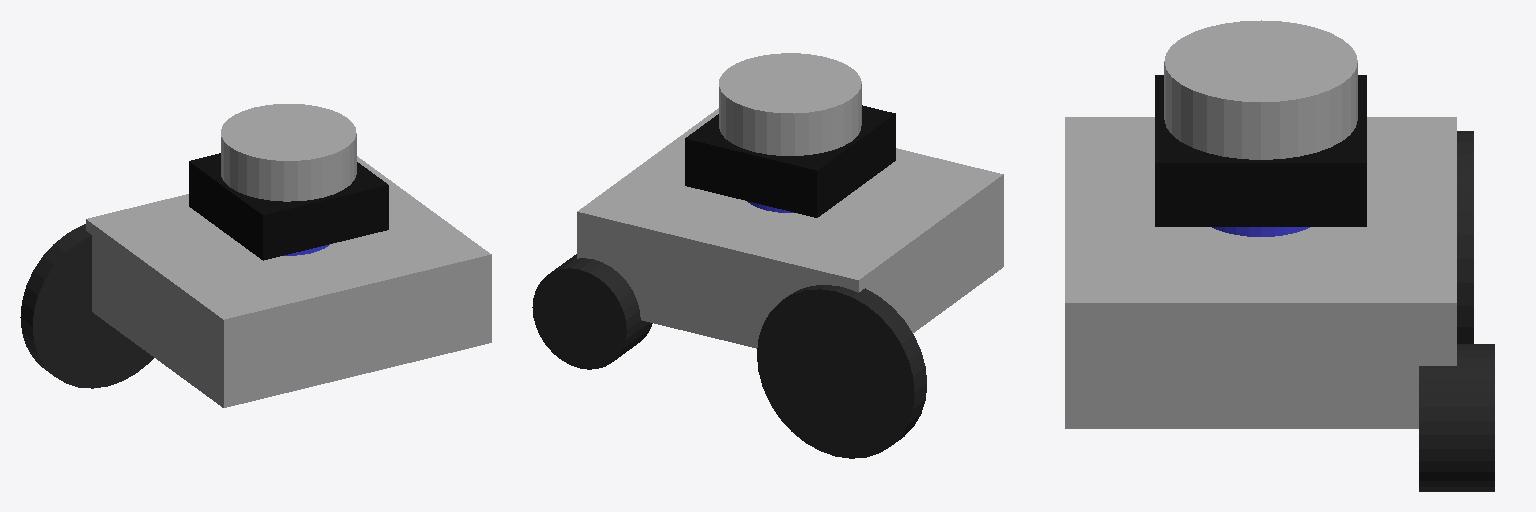
The robot description file, URDF, robot "evolved_robot":
<?xml version="1.0"?>
<robot name="evolved_robot">
  <material name="metal">
    <color rgba="0.7 0.7 0.7 1.0"/>
  </material>
  <material name="plastic">
    <color rgba="0.3 0.3 0.9 1.0"/>
  </material>
  <material name="rubber">
    <color rgba="0.1 0.1 0.1 1.0"/>
  </material>
  <material name="red">
    <color rgba="1.0 0.0 0.0 1.0"/>
  </material>
  <material name="wheel_material">
    <color rgba="0.2 0.2 0.2 1.0"/>
  </material>
  <link name="base_link">
    <visual>
      <geometry><box size="0.34027136548425513 0.3031946513906124 0.10747812692987997"/></geometry>
      <material name="metal"/>
    </visual>
    <collision>
      <geometry><box size="0.34027136548425513 0.3031946513906124 0.10747812692987997"/></geometry>
    </collision>
    <inertial>
      <mass value="5.0"/>
      <inertia ixx="0.08623212033352533" ixy="0" ixz="0" 
               iyy="0.1061134582807291" iyz="0" 
               izz="0.1730929990003288"/>
    </inertial>
  </link>
  <link name="link1">
    <visual>
      <geometry><cylinder radius="0.050041594297084685" length="0.0551596696567533"/></geometry>
      <material name="plastic"/>
    </visual>
    <collision>
      <geometry><cylinder radius="0.050041594297084685" length="0.0551596696567533"/></geometry>
    </collision>
    <inertial>
      <mass value="0.5"/>
      <inertia ixx="0.0008795893863353505" ixy="0" ixz="0" 
               iyy="0.0008795893863353505" iyz="0" 
               izz="0.0012520805798970091"/>
    </inertial>
  </link>
  <joint name="joint1" type="fixed">
    <parent link="base_link"/>
    <child link="link1"/>
    <origin xyz="0 0 0.053739063464939986" rpy="0 0 0"/>
    <axis xyz="-0.09344979423289478 -0.9427831852506745 0.32004218716666416"/>
    <dynamics damping="0.7561519102187328" friction="0.1"/>
  </joint>
  <link name="link2">
    <visual>
      <geometry><box size="0.15984581774312595 0.1637658213362068 0.05482141343289953"/></geometry>
      <material name="rubber"/>
    </visual>
    <collision>
      <geometry><box size="0.15984581774312595 0.1637658213362068 0.05482141343289953"/></geometry>
    </collision>
    <inertial>
      <mass value="0.5"/>
      <inertia ixx="0.002485385967391942" ixy="0" ixz="0" 
               iyy="0.002379672735062461" iyz="0" 
               izz="0.004364160807324254"/>
    </inertial>
  </link>
  <joint name="joint2" type="revolute">
    <parent link="base_link"/>
    <child link="link2"/>
    <origin xyz="0 0 0.10373906346494" rpy="0 0 0"/>
    <axis xyz="0.6013384473320394 -0.5707965277628373 0.5590915807398467"/>
    <dynamics damping="0.873036841141712" friction="0.1"/>
    <limit lower="-1.7587900716096077" upper="0.9873321275505671" effort="100" velocity="100"/>
  </joint>
  <link name="link3">
    <visual>
      <geometry>
        <cylinder radius="0.05702772458523453" length="0.05837642313947383"/>
      </geometry>
      <material name="wheel_material"/>
    </visual>
    <collision>
      <geometry>
        <cylinder radius="0.05702772458523453" length="0.05837642313947383"/>
      </geometry>
    </collision>
    <inertial>
      <mass value="1.0"/>
      <inertia ixx="0.001097024241055582" ixy="0" ixz="0" 
               iyy="0.001097024241055582" iyz="0" 
               izz="0.0016260806856846814"/>
    </inertial>
  </link>
  <joint name="joint3" type="continuous">
    <parent link="base_link"/>
    <child link="link3"/>
    <origin xyz="0.15013568274212757 0.1515973256953062 -0.053739063464939986" rpy="1.5708 0 0"/>
    <axis xyz="0 0 1"/>
    <dynamics damping="0.7441332332709308" friction="0.1"/>
  </joint>
  <link name="link4">
    <visual>
      <geometry>
        <cylinder radius="0.09534330464393713" length="0.02655889687480227"/>
      </geometry>
      <material name="wheel_material"/>
    </visual>
    <collision>
      <geometry>
        <cylinder radius="0.09534330464393713" length="0.02655889687480227"/>
      </geometry>
    </collision>
    <inertial>
      <mass value="1.0"/>
      <inertia ixx="0.0023313676853738492" ixy="0" ixz="0" 
               iyy="0.0023313676853738492" iyz="0" 
               izz="0.004545172870213302"/>
    </inertial>
  </link>
  <joint name="joint4" type="continuous">
    <parent link="base_link"/>
    <child link="link4"/>
    <origin xyz="-0.15013568274212757 0.1515973256953062 -0.053739063464939986" rpy="1.5708 0 0"/>
    <axis xyz="0 0 1"/>
    <dynamics damping="0.22581670034412085" friction="0.1"/>
  </joint>
  <link name="link5">
    <visual>
      <geometry><cylinder radius="0.07485252675953" length="0.053276958313873427"/></geometry>
      <material name="metal"/>
    </visual>
    <collision>
      <geometry><cylinder radius="0.07485252675953" length="0.053276958313873427"/></geometry>
    </collision>
    <inertial>
      <mass value="0.5"/>
      <inertia ixx="0.0016372613811697224" ixy="0" ixz="0" 
               iyy="0.0016372613811697224" iyz="0" 
               izz="0.002801450381143077"/>
    </inertial>
  </link>
  <joint name="joint5" type="revolute">
    <parent link="base_link"/>
    <child link="link5"/>
    <origin xyz="0 0 0.15373906346493998" rpy="0 0 0"/>
    <axis xyz="-0.8837852742331787 -0.24120500408464118 0.4009285909649165"/>
    <dynamics damping="0.3607509468545228" friction="0.1"/>
    <limit lower="-0.9801294114817961" upper="1.0594762417049612" effort="100" velocity="100"/>
  </joint>
</robot>

--- Render facts (derived) ---
Views: 3 orthographic renders of the robot side by side, from view 1: azimuth 30°, elevation 25°; view 2: azimuth 150°, elevation 25°; view 3: azimuth 270°, elevation 25°.
Robot: evolved_robot — 6 links, 5 joints (2 revolute, 2 continuous, 1 fixed); root link base_link; default pose: all joints at 0.
Visible links, largest first — view 1: base_link, link5, link4, link2; view 2: base_link, link4, link5, link2, link3; view 3: base_link, link5, link2, link3, link4, link1.
Link boxes in pixels (x1,y1,x2,y2): base_link: [86, 156, 491, 407]; link5: [221, 104, 356, 201]; link4: [20, 224, 153, 388]; link2: [189, 153, 388, 260]; base_link: [577, 108, 1003, 348]; link4: [757, 285, 926, 458]; link5: [719, 53, 861, 155]; link2: [685, 105, 895, 217]; link3: [532, 254, 652, 369]; base_link: [1065, 117, 1456, 428]; link5: [1164, 20, 1357, 159]; link2: [1155, 75, 1366, 226]; link3: [1419, 344, 1494, 491]; link4: [1457, 131, 1473, 343]; link1: [1212, 227, 1309, 236].
Size in the robot's own frame: 0.4526 by 0.3324 by 0.3295 metres.
Geometry: primitives only (box / cylinder / sphere), no mesh files.